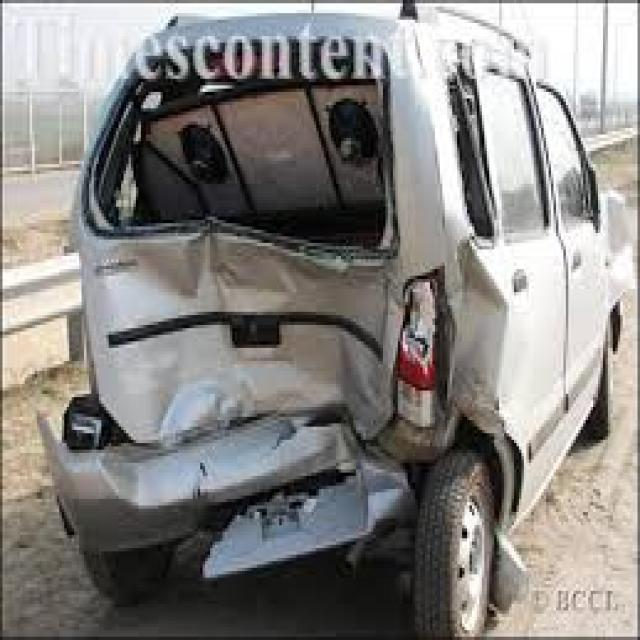damaged-trunk: (88, 50, 408, 434)
